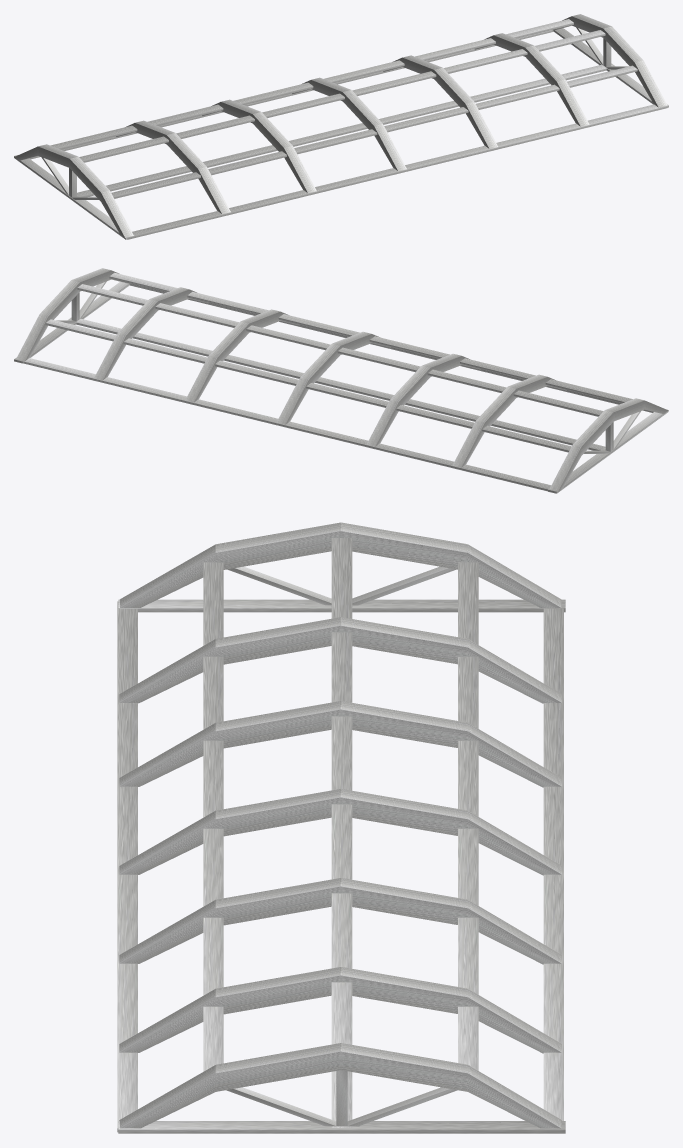
File: RoofFraming.obj
3 renders of one model, top to bottom at view 1: azimuth 30°, elevation 25°; view 2: azimuth 150°, elevation 25°; view 3: azimuth 270°, elevation 25°, orthographic. The views are drawn at different scales.
Visible parts, largest first — view 1: RoofFraming; view 2: RoofFraming; view 3: RoofFraming.
Part boxes in pixels (x1,y1,x2,y2): RoofFraming: [14, 14, 668, 239]; RoofFraming: [14, 268, 668, 493]; RoofFraming: [117, 522, 565, 1133].
Bounding box in the file's own units: 123 × 8.75 × 43.79.
